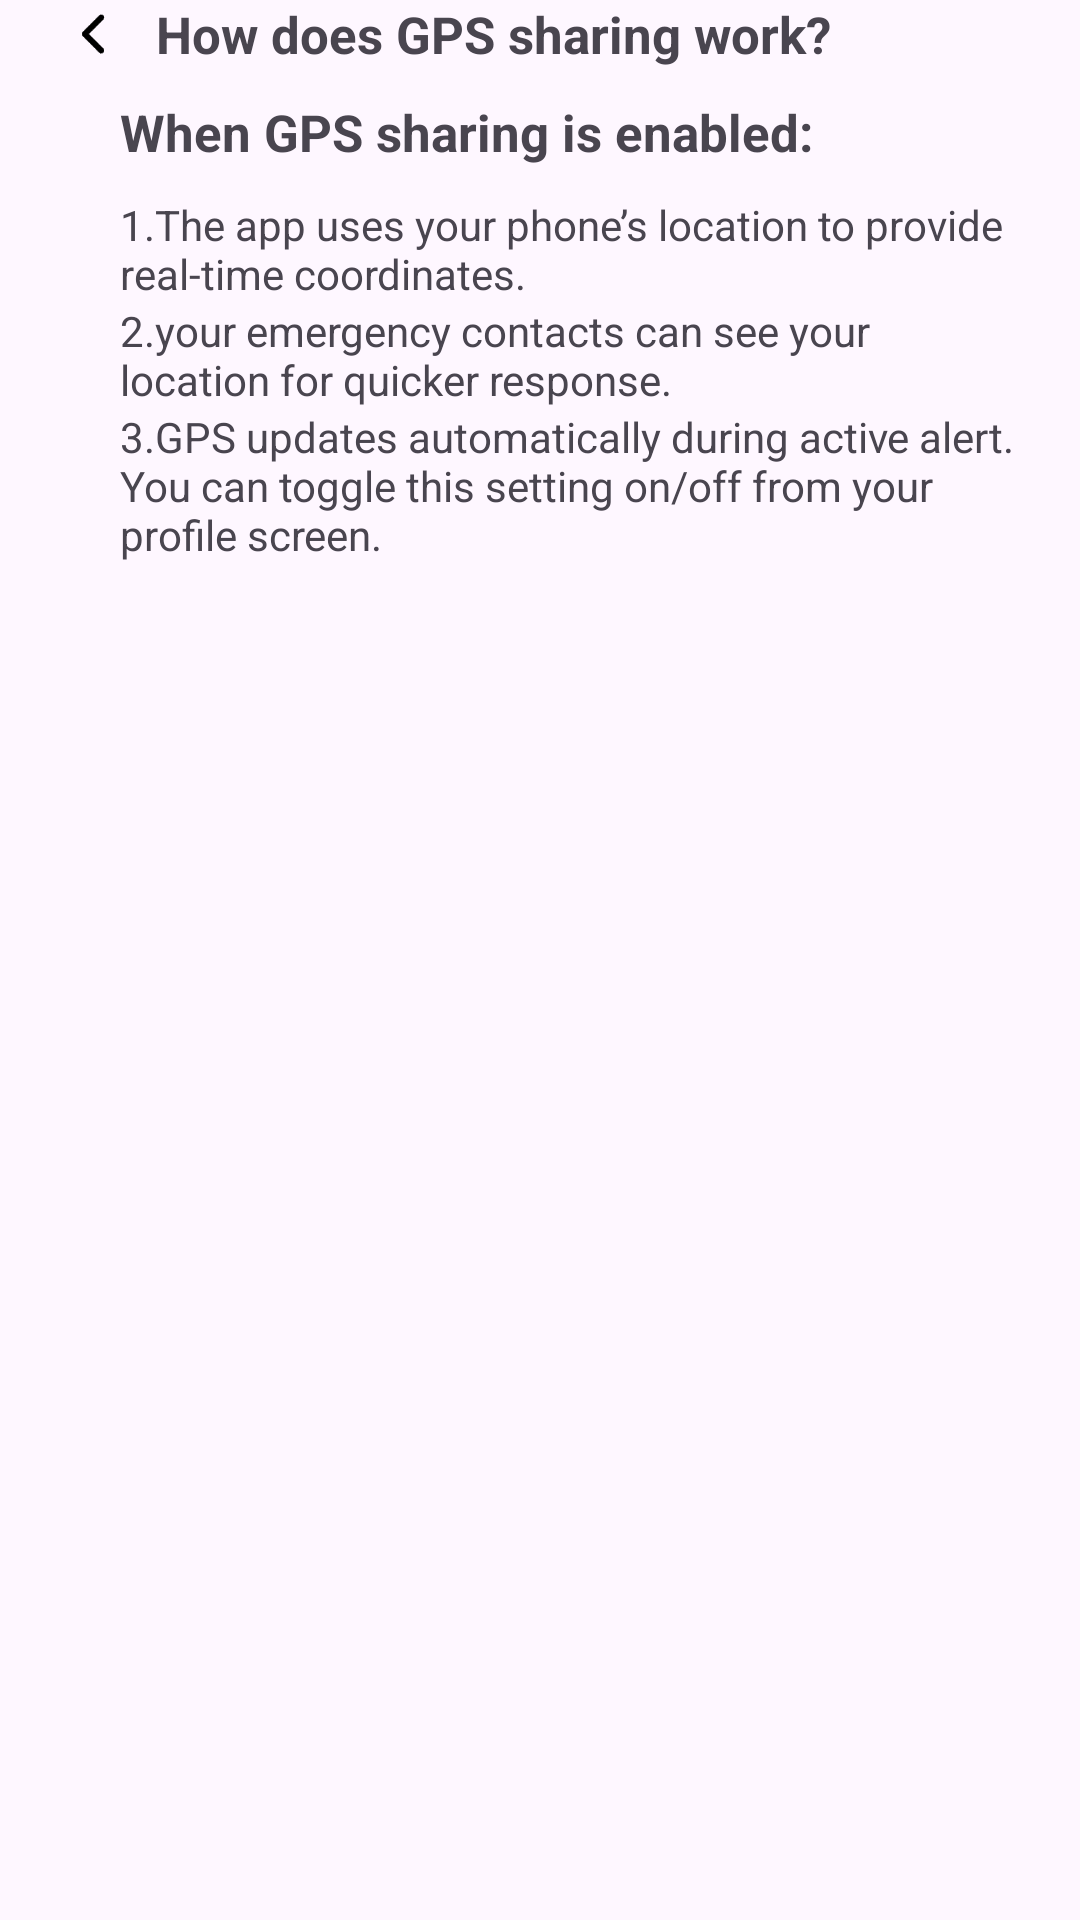

Point at icon controls on the screen. Image size 1080 × 1920, points as (x,y).
back: (93,34)
